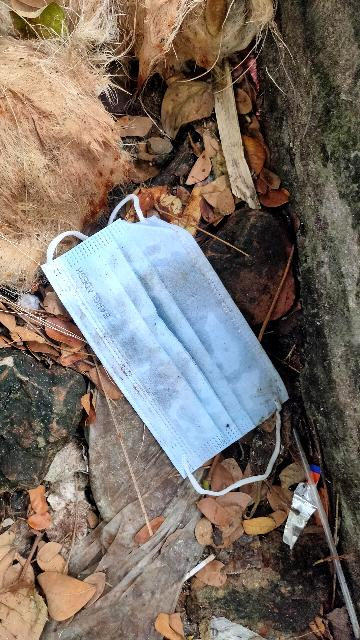mask: (28, 187, 307, 507)
